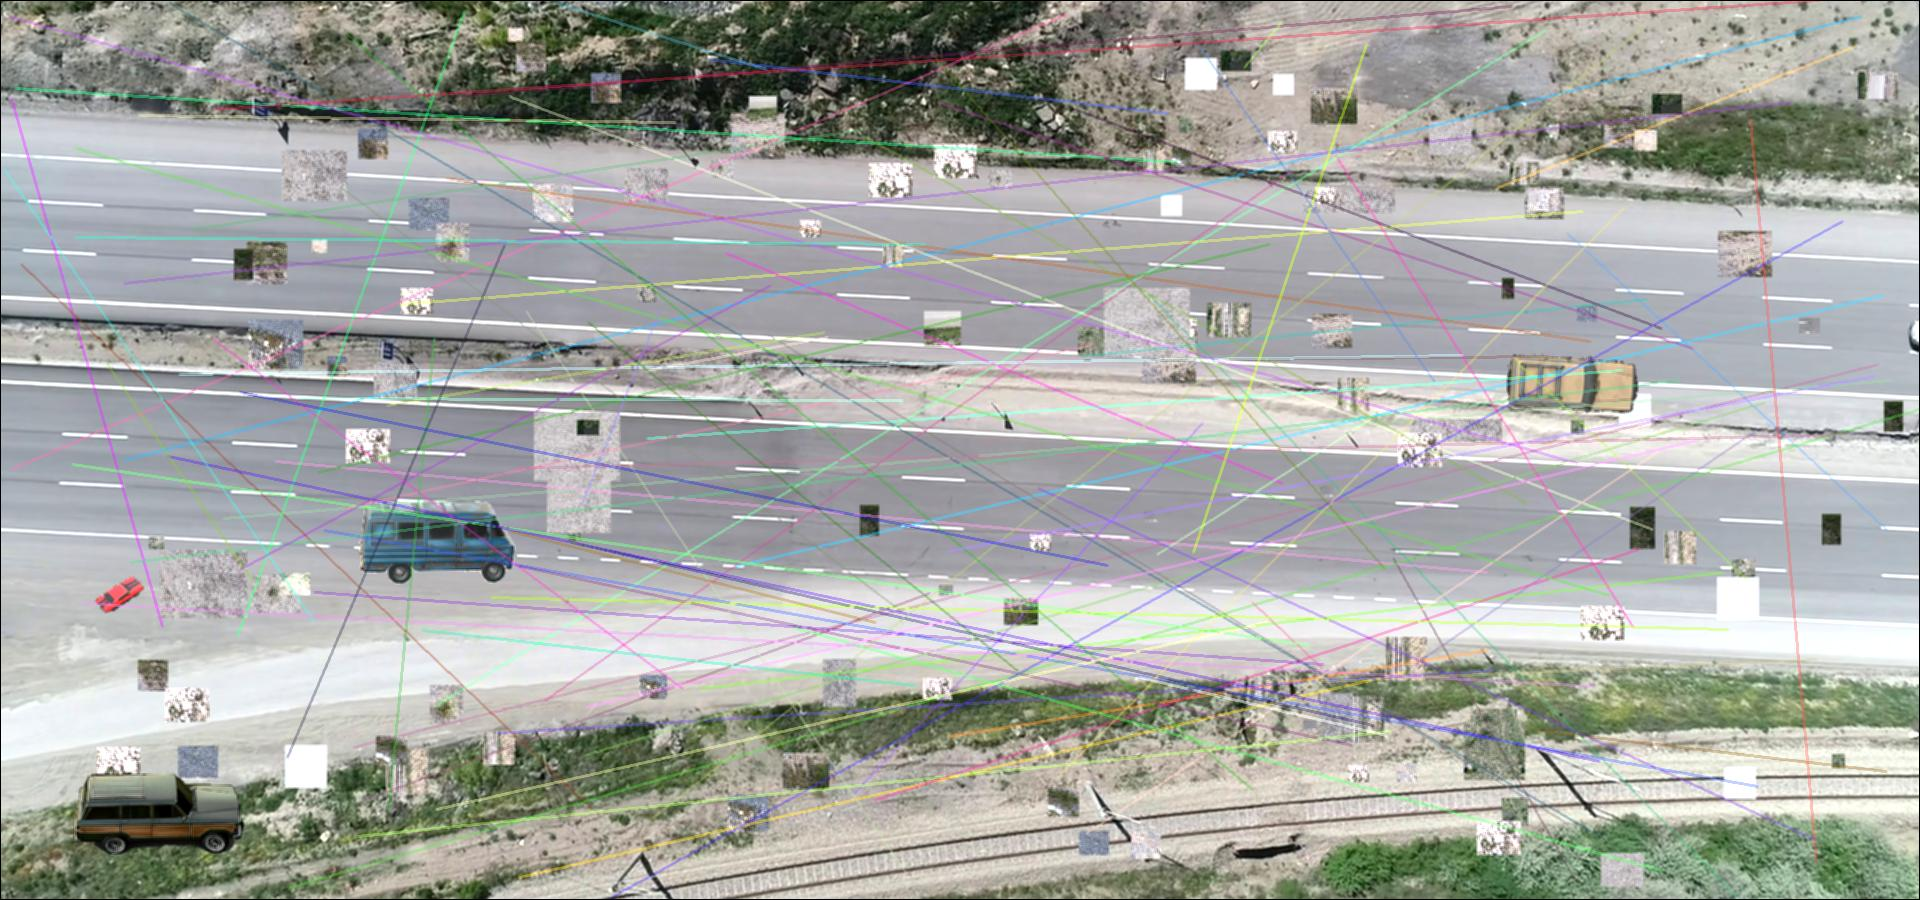arac: (73, 774, 244, 853), (358, 500, 516, 585), (1506, 351, 1643, 418), (96, 576, 144, 613)
